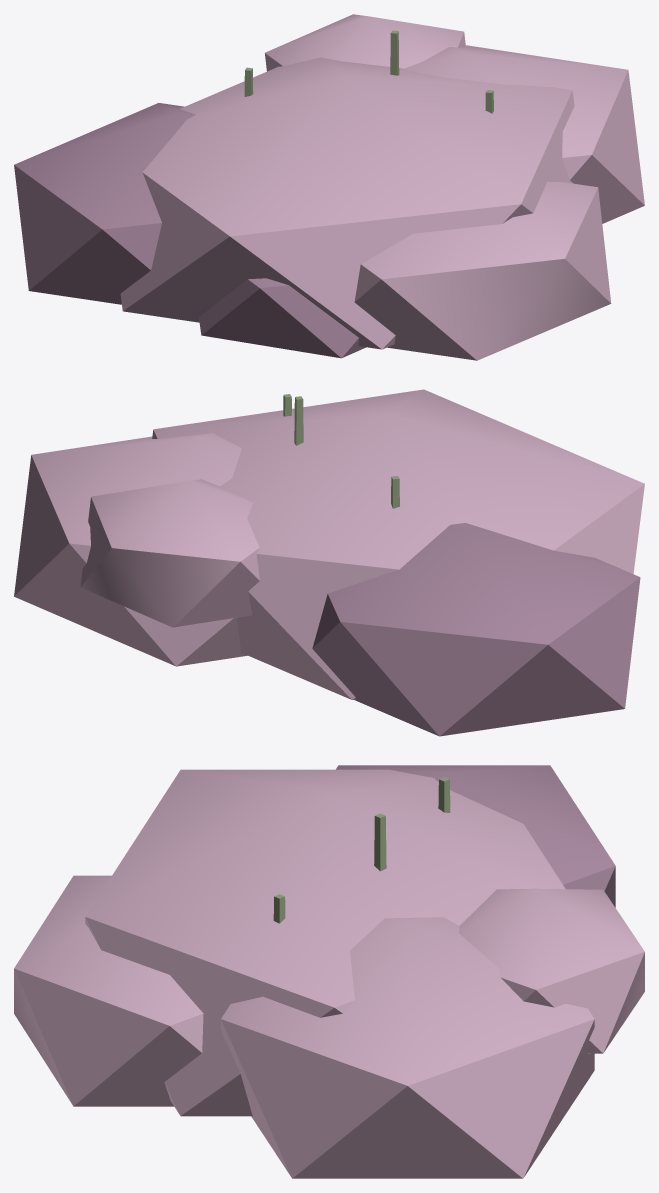
The model's file is cloudloft_heather.glb.
3 views of the same model, one above another, from view 1: azimuth 30°, elevation 25°; view 2: azimuth 150°, elevation 25°; view 3: azimuth 270°, elevation 25° (orthographic). The views are drawn at different scales.
Visible parts, largest first — view 1: cloudloft_heather; view 2: cloudloft_heather; view 3: cloudloft_heather.
Part boxes in pixels (x1,y1,x2,y2): cloudloft_heather: [14, 14, 644, 360]; cloudloft_heather: [14, 389, 644, 736]; cloudloft_heather: [14, 765, 644, 1178].
Size of the model in its own units: 0.883 by 0.38 by 0.6892.
